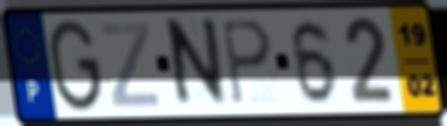2: (346, 13, 399, 108)
6: (289, 17, 340, 106)
G: (47, 17, 105, 115)
N: (166, 14, 229, 113)
P: (219, 18, 276, 109)
Z: (98, 20, 162, 110)
